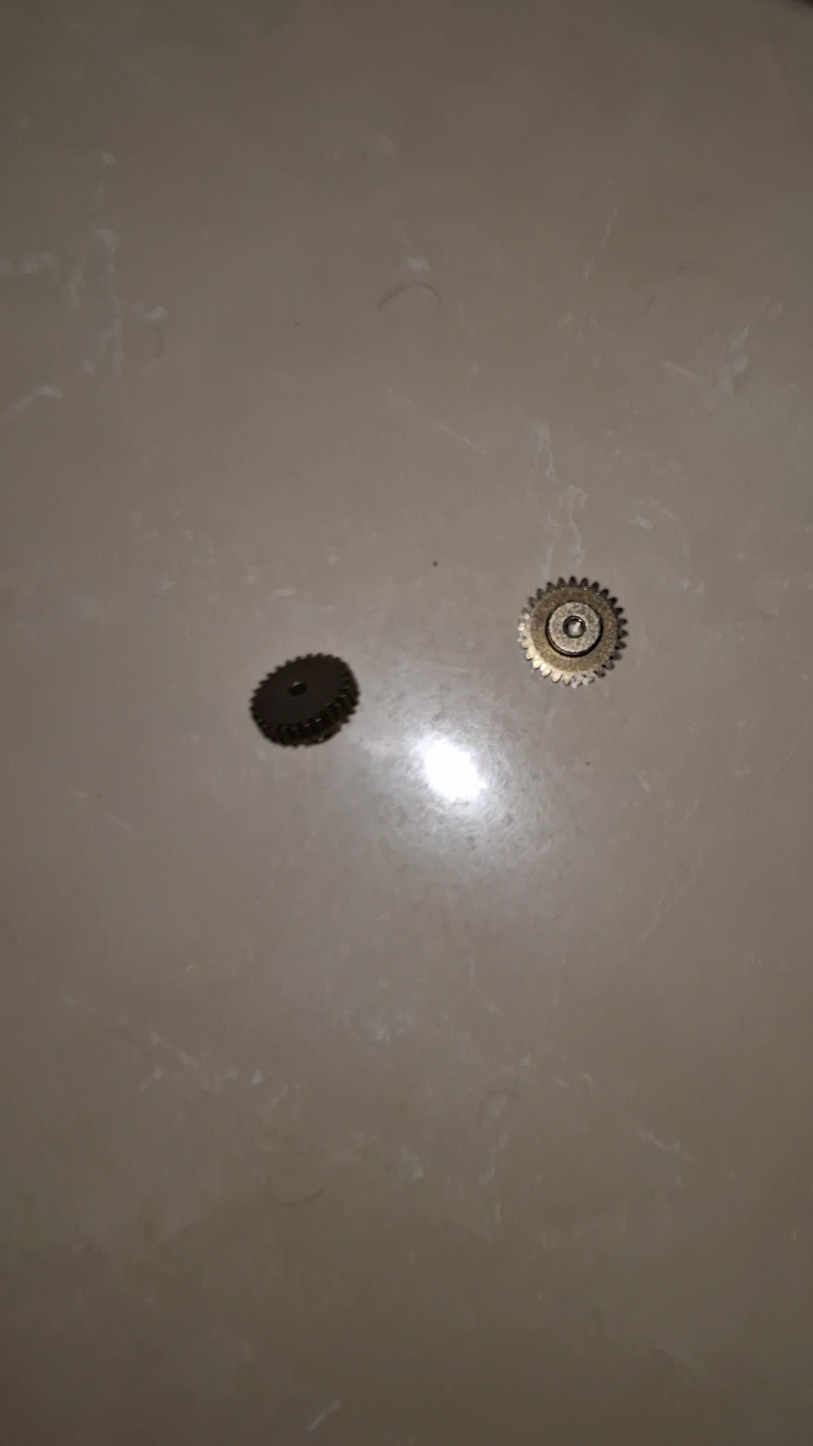spur gear: (519, 577, 626, 686), (250, 654, 359, 746)
